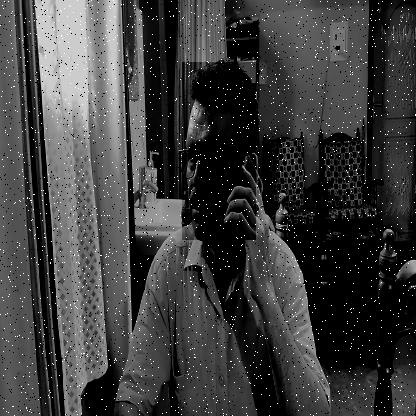Distracted: (182, 62, 256, 240)
